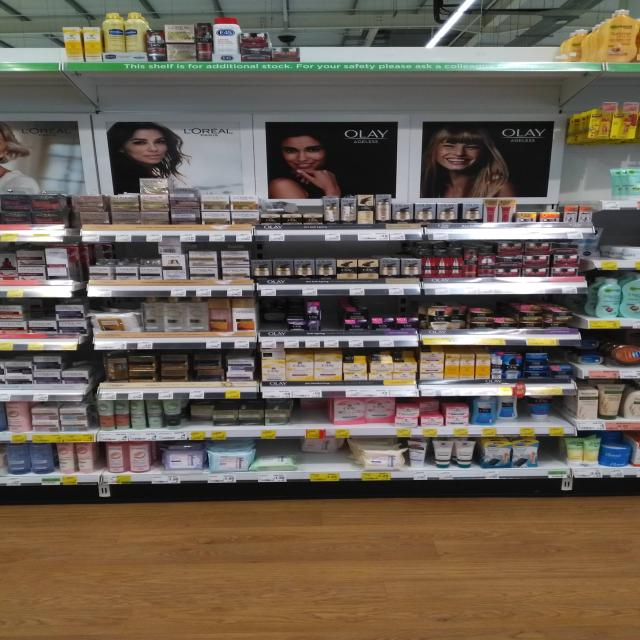unorganised: (330, 398, 395, 425), (86, 308, 143, 336), (563, 436, 602, 464), (193, 351, 226, 383), (225, 352, 256, 386), (207, 297, 232, 333), (303, 437, 347, 457), (140, 297, 163, 334), (106, 351, 129, 386), (71, 193, 107, 214), (495, 397, 519, 426), (406, 440, 427, 471), (530, 395, 552, 423), (449, 305, 469, 331), (191, 405, 212, 425), (157, 239, 184, 253), (420, 400, 442, 416), (418, 304, 429, 331)
